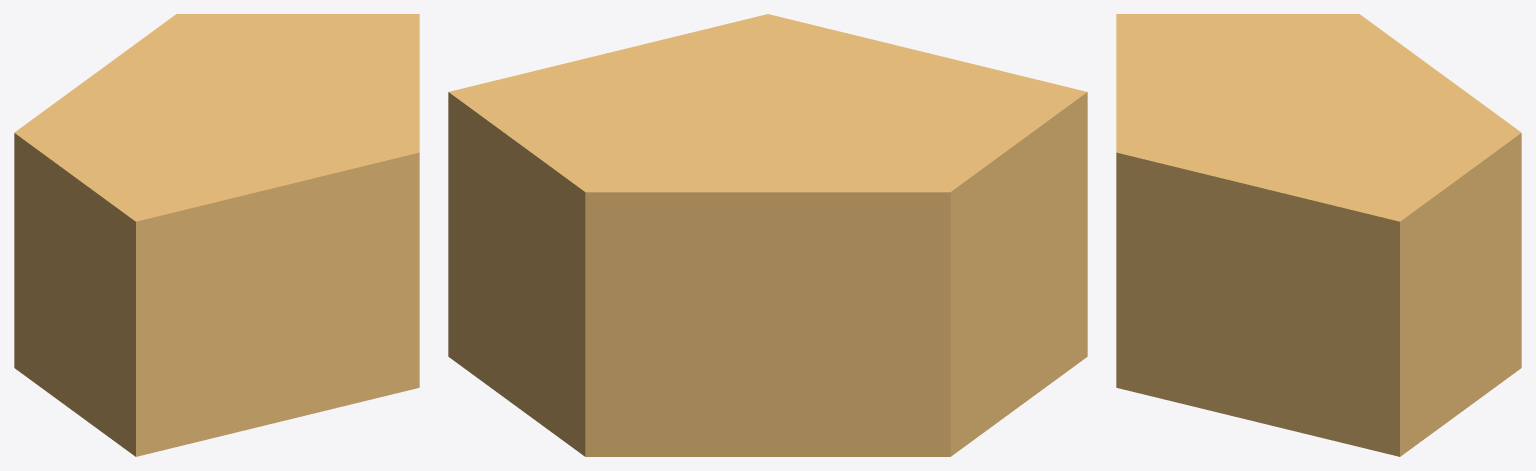
The picture shows the model from 3 angles, left to right: view 1: azimuth 30°, elevation 25°; view 2: azimuth 150°, elevation 25°; view 3: azimuth 270°, elevation 25°; orthographic projection. The views are drawn at different scales.
Parts seen in each view (by area): view 1: WoodenWallHalfCurvedTallFill; view 2: WoodenWallHalfCurvedTallFill; view 3: WoodenWallHalfCurvedTallFill.
Boxes of the visible parts, bbox=[...] form: WoodenWallHalfCurvedTallFill: bbox=[14, 14, 419, 456]; WoodenWallHalfCurvedTallFill: bbox=[448, 14, 1087, 456]; WoodenWallHalfCurvedTallFill: bbox=[1116, 14, 1521, 456].
Bounding box in the file's own units: 1.52 × 0.8 × 1.25.
Materials: 1 (1 with a texture image).
